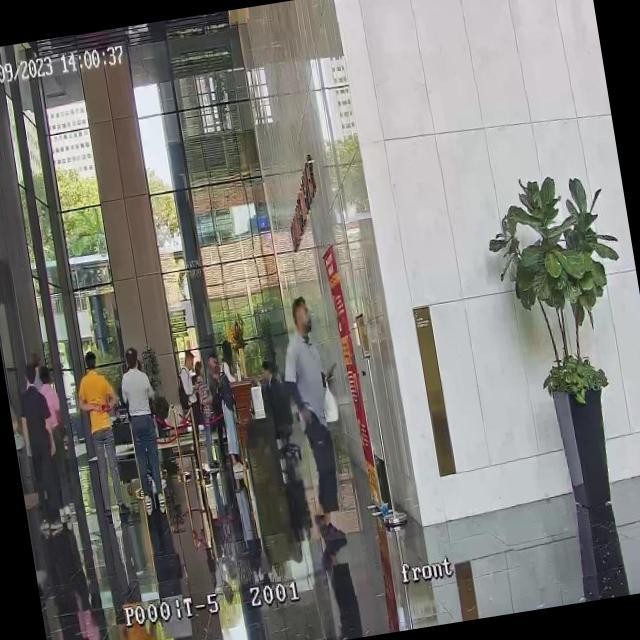person: (272, 294, 350, 520), (71, 347, 137, 524), (114, 345, 174, 517), (15, 362, 71, 536), (210, 337, 256, 474), (34, 364, 76, 508), (172, 347, 214, 478), (204, 352, 236, 468), (192, 358, 224, 464), (260, 356, 290, 426)
